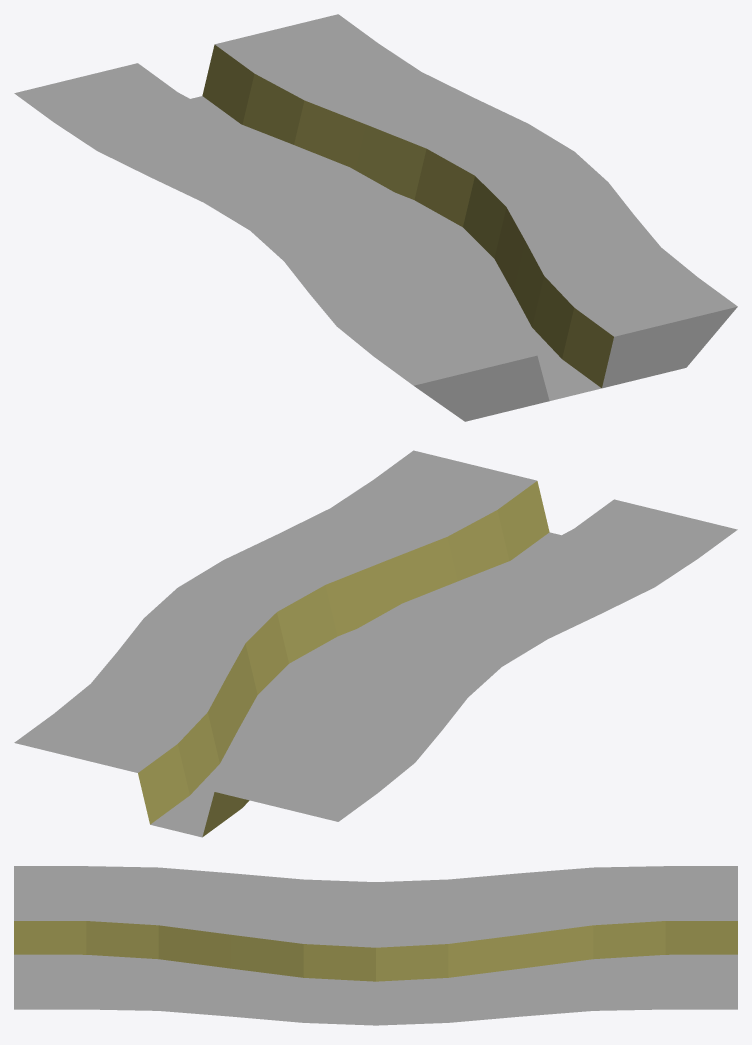
Rendered from ravine_curveright.fbx.
3 views of the same model, one above another, from view 1: azimuth 30°, elevation 25°; view 2: azimuth 150°, elevation 25°; view 3: azimuth 270°, elevation 25° (orthographic). The views are drawn at different scales.
Parts seen in each view (by area): view 1: pPlane1; view 2: pPlane1; view 3: pPlane1.
Boxes of the visible parts, x1,y1,x2,y2 form: pPlane1: (14, 14, 737, 421); pPlane1: (14, 450, 737, 837); pPlane1: (14, 866, 737, 1025).
Size of the model in its own units: 11728 by 1512 by 22500.
